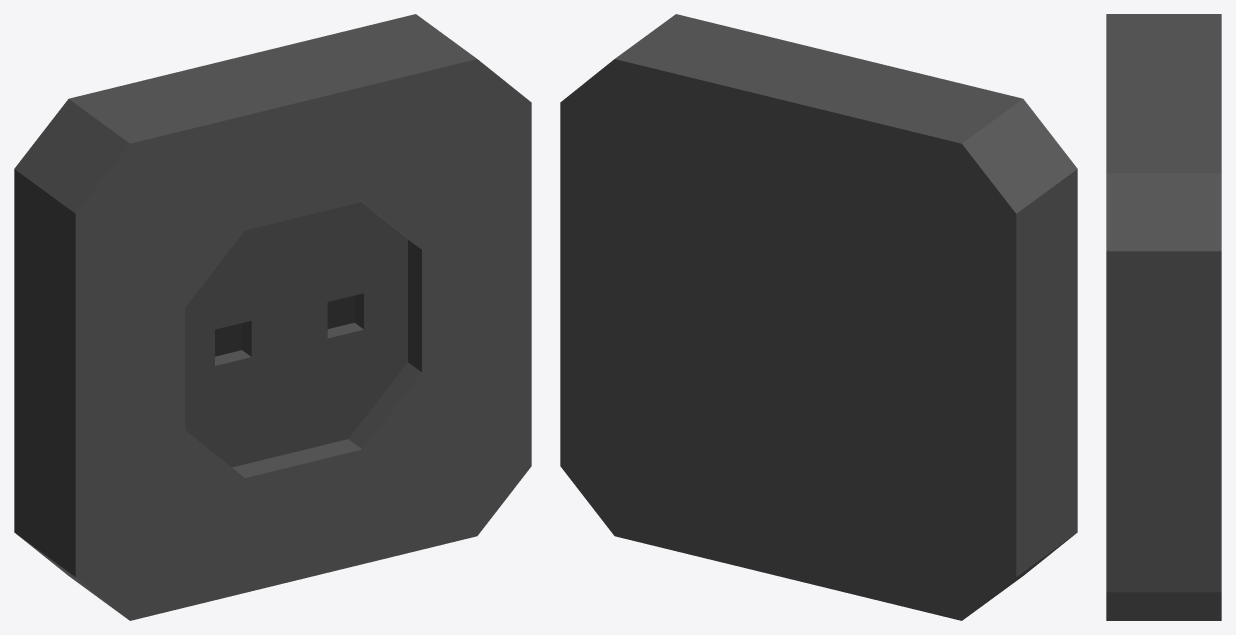
The model's file is Socket4_C2.fbx.
3 views of the same model, side by side, from view 1: azimuth 30°, elevation 25°; view 2: azimuth 150°, elevation 25°; view 3: azimuth 270°, elevation 25° (orthographic). The views are drawn at different scales.
Visible parts, largest first — view 1: Socket4_C2; view 2: Socket4_C2; view 3: Socket4_C2.
Boxes of the visible parts, box(x1,y1,x2,y2) form: Socket4_C2: box(14, 14, 531, 620); Socket4_C2: box(560, 14, 1077, 620); Socket4_C2: box(1106, 14, 1221, 620).
Size of the model in its own units: 8.44 by 8.44 by 1.97.
